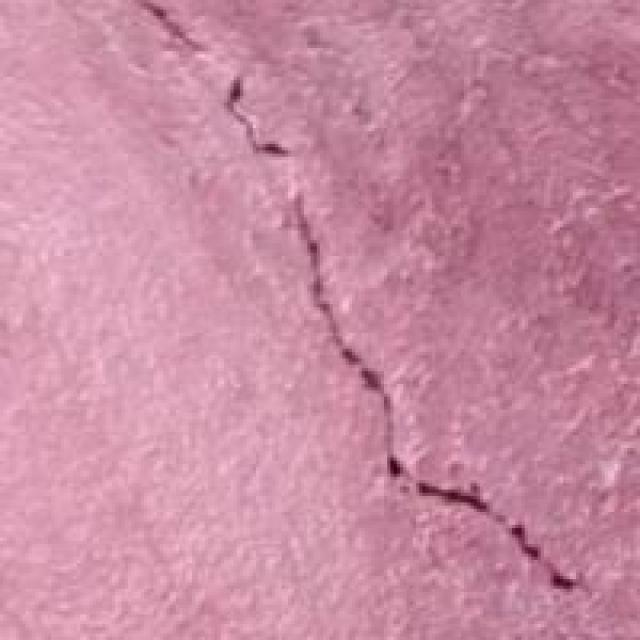Crack: (115, 0, 608, 602)
